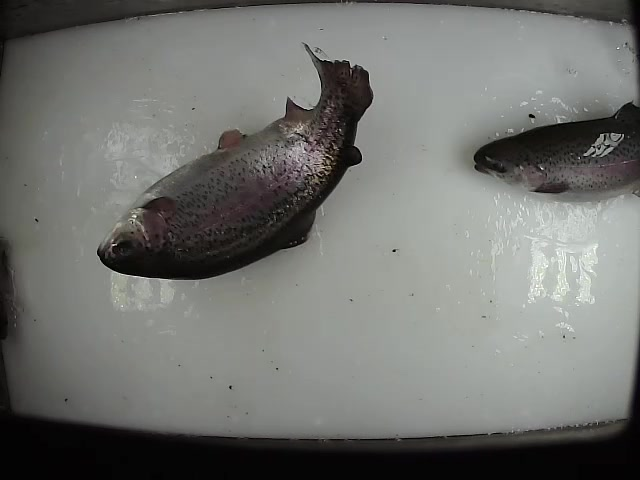fish: (91, 40, 378, 284), (471, 93, 640, 211)
